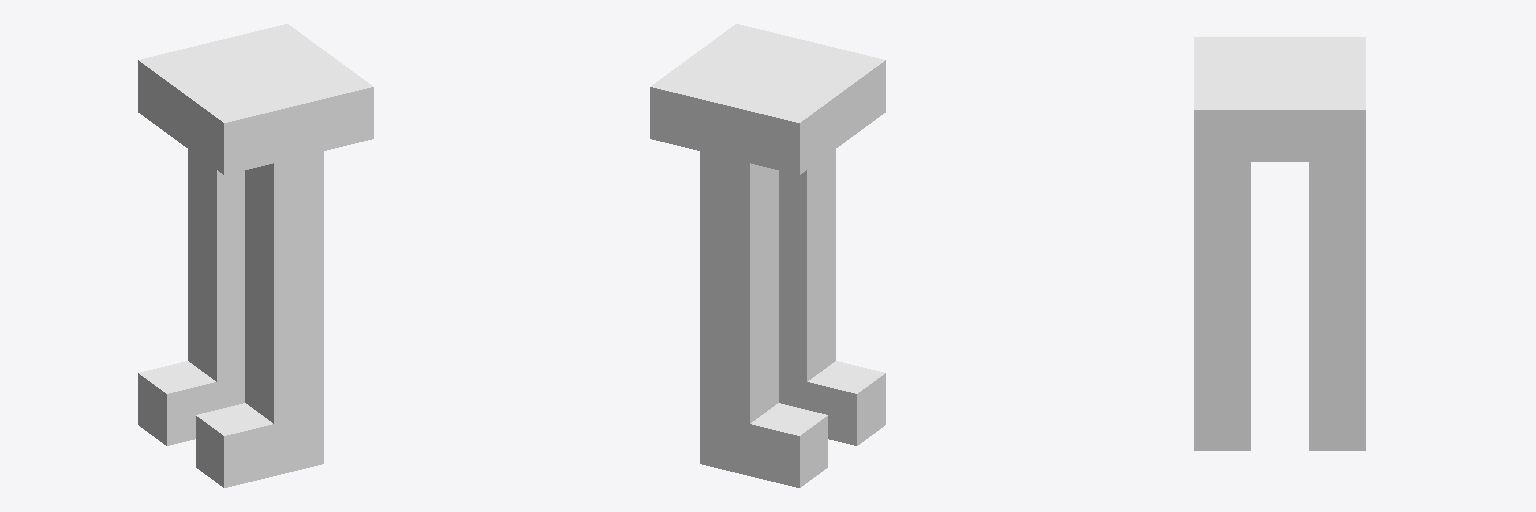
The model's file is human-3-torso_stand.obj.
3 views of the same model, side by side, from view 1: azimuth 30°, elevation 25°; view 2: azimuth 150°, elevation 25°; view 3: azimuth 270°, elevation 25° (orthographic).
Visible parts, largest first — view 1: torso_stand; view 2: torso_stand; view 3: torso_stand.
Part boxes in pixels (x1,y1,x2,y2): torso_stand: (138, 24, 373, 487); torso_stand: (650, 24, 885, 487); torso_stand: (1194, 37, 1365, 450).
Size of the model in its own units: 0.3 by 0.7 by 0.3.